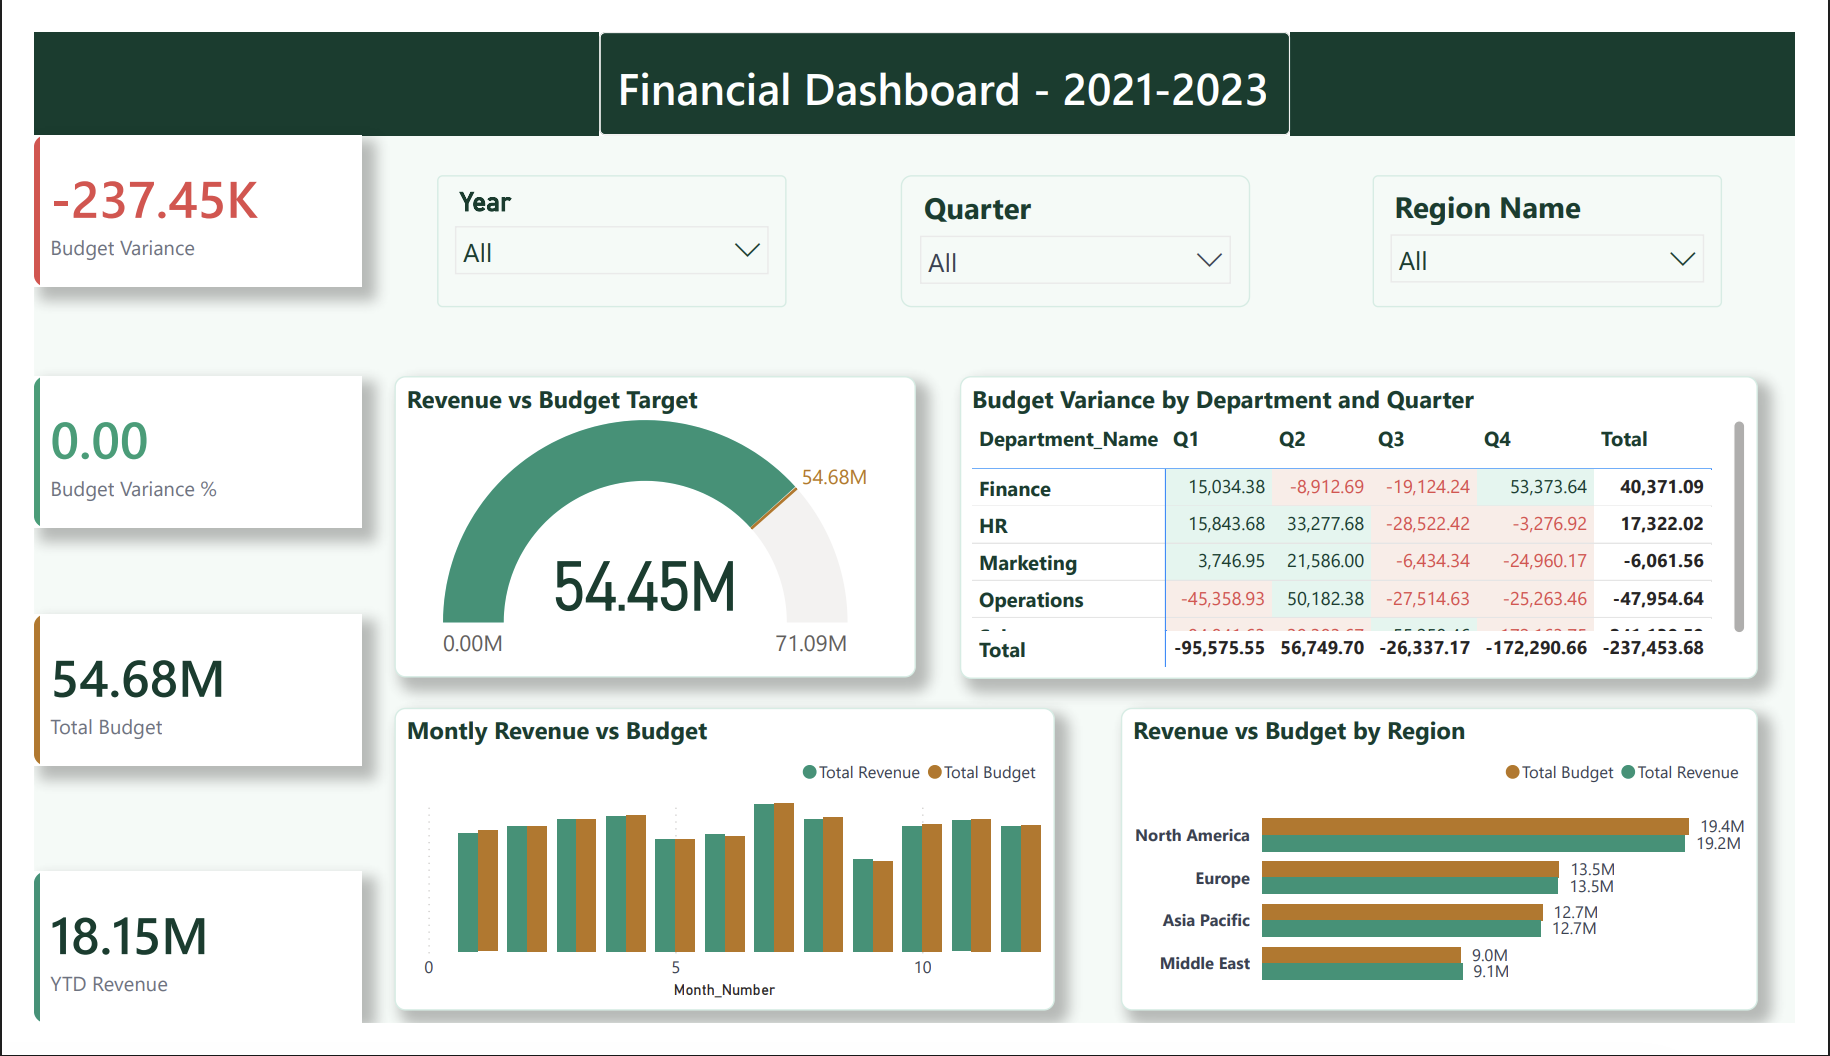

The dashboard page shown, as its layout file describes it:
{"tool":"powerbi","page":{"name":"Budget vs Actuaal","canvas":[1280,720],"ordinal":3},"visuals":[{"type":"shape","box":[0,0,1280,75],"z":0},{"type":"gauge","title":"Revenue vs Budget Target","fields":{"Y":["_Measure (2).Total Revenue"],"TargetValue":["_Measure (2).Total Budget"],"MaxValue":["_Measure (2).Max Guage"]},"box":[261.6,250,379.3,218.8],"z":2},{"type":"cardVisual","fields":{"Data":["_Measure (2).Budget Variance"]},"box":[0,74.9,238.3,109.9],"z":3},{"type":"cardVisual","fields":{"Data":["_Measure (2).Budget Variance %"]},"box":[0,250,238.3,109.9],"z":4},{"type":"cardVisual","fields":{"Data":["_Measure (2).Total Budget"]},"box":[0,423.1,238.3,109.9],"z":5},{"type":"cardVisual","fields":{"Data":["_Measure (2).YTD Revenue"]},"box":[0,609.8,238.3,109.9],"z":6},{"type":"clusteredBarChart","title":"Revenue vs Budget by Region","fields":{"Category":["Regions.Region_Name"],"Y":["_Measure (2).Total Budget","_Measure (2).Total Revenue"]},"box":[789.8,491.2,463,219.8],"z":7},{"type":"clusteredColumnChart","title":"Montly Revenue vs Budget","fields":{"Category":["Date_Table.Month_Number"],"Y":["_Measure (2).Total Revenue","_Measure (2).Total Budget"]},"box":[261.6,491.2,480.5,219.8],"z":8},{"type":"pivotTable","title":"Budget Variance by Department and Quarter","fields":{"Rows":["Departments.Department_Name"],"Columns":["Date_Table.Quarter"],"Values":["_Measure (2).Budget Variance"]},"box":[673.1,250,579.7,219.8],"z":9},{"type":"cardVisual","fields":{"Data":["_Measure (2).Dynamic Title"]},"box":[411.4,0,501.9,74.9],"z":10},{"type":"slicer","fields":{"Values":["Date_Table.Year"]},"box":[292.8,104.1,253.9,96.3],"z":11},{"type":"slicer","fields":{"Values":["Date_Table.Quarter"]},"box":[630.3,104.1,253.9,96.3],"z":12},{"type":"slicer","fields":{"Values":["Regions.Region_Name"]},"box":[972.6,104.1,253.9,96.3],"z":13}]}

Visuals, with their boxes in screenshot pixels (x1, y1, x2, y2), scaled from the page's 1280x720 canvas onto the 1830x1056 screenshot:
shape: l=0, t=0, r=1829, b=110
"Revenue vs Budget Target" gauge: l=374, t=367, r=916, b=688
cardVisual - _Measure (2).Budget Variance: l=0, t=110, r=341, b=271
cardVisual - _Measure (2).Budget Variance %: l=0, t=367, r=341, b=528
cardVisual - _Measure (2).Total Budget: l=0, t=621, r=341, b=782
cardVisual - _Measure (2).YTD Revenue: l=0, t=894, r=341, b=1055
"Revenue vs Budget by Region" clusteredBarChart: l=1129, t=720, r=1791, b=1043
"Montly Revenue vs Budget" clusteredColumnChart: l=374, t=720, r=1061, b=1043
"Budget Variance by Department and Quarter" pivotTable: l=962, t=367, r=1791, b=689
cardVisual - _Measure (2).Dynamic Title: l=588, t=0, r=1306, b=110
slicer - Date_Table.Year: l=419, t=153, r=782, b=294
slicer - Date_Table.Quarter: l=901, t=153, r=1264, b=294
slicer - Regions.Region_Name: l=1391, t=153, r=1754, b=294
